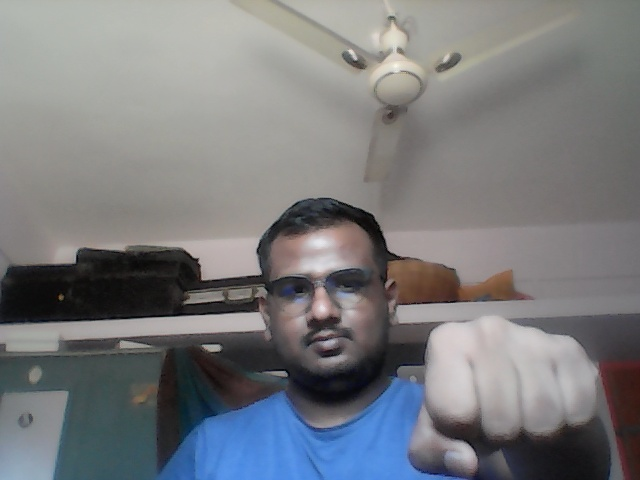Yes: (403, 313, 602, 480)
